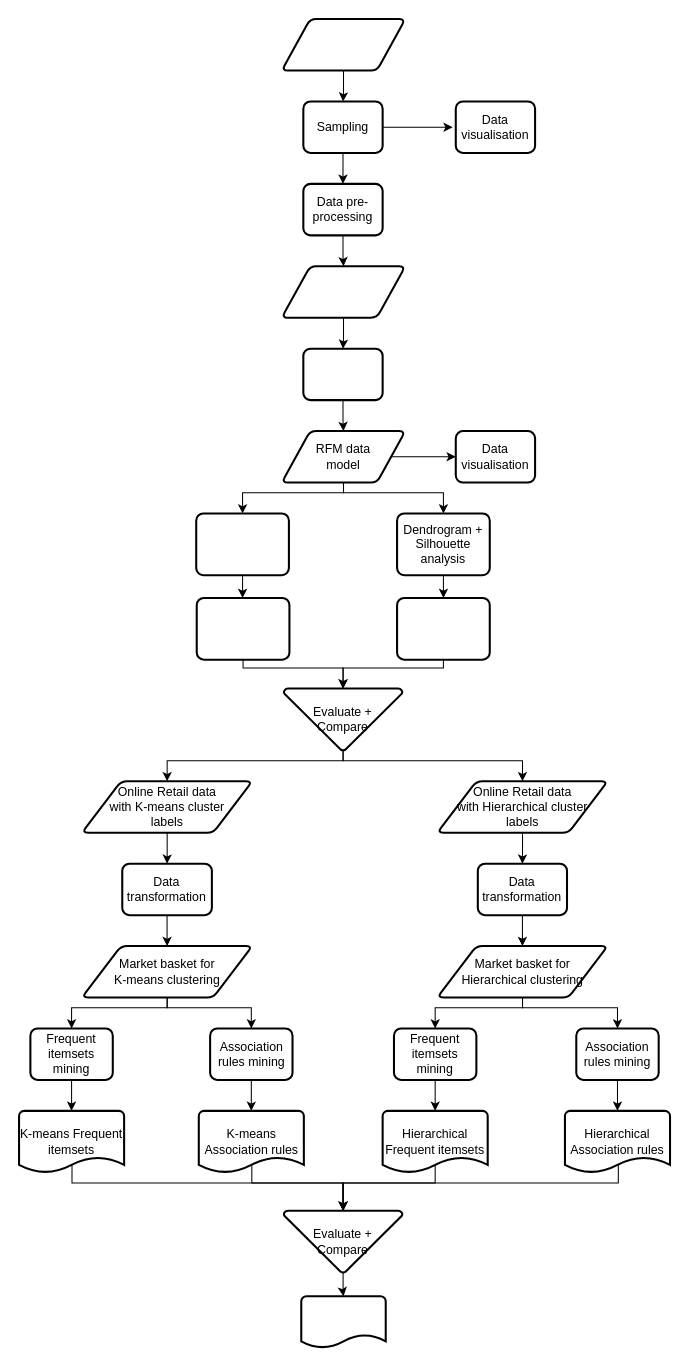
This 688x1366 diagram has some shape labels left out. The centre of each missing label's shape, as x and y in pixels:
"Elbow method + Silhouette analysis" belongs at point 242,544.
"Feature Engineering" belongs at point 342,374.
"Hierarchical clustering" belongs at point 443,628.
"Insights" belongs at point 343,1321.
"K-means clustering" belongs at point 242,628.
"Online Retail Data (cleaned)" belongs at point 343,291.
"Online Retail Data (raw)" belongs at point 343,44.
